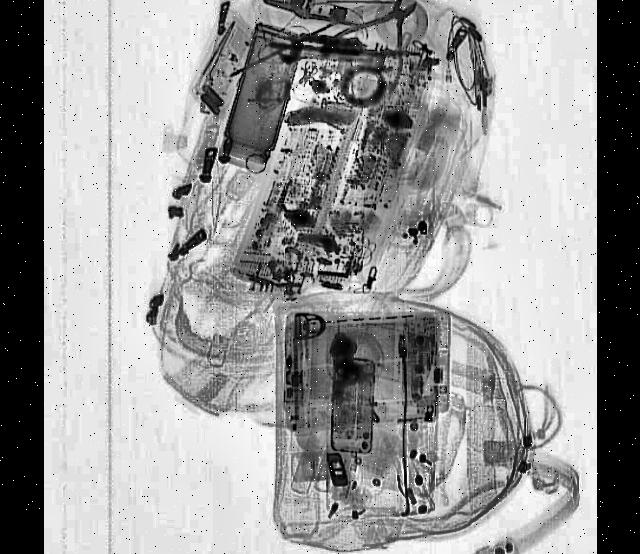Pliers: (317, 0, 438, 120), (261, 0, 367, 29)
